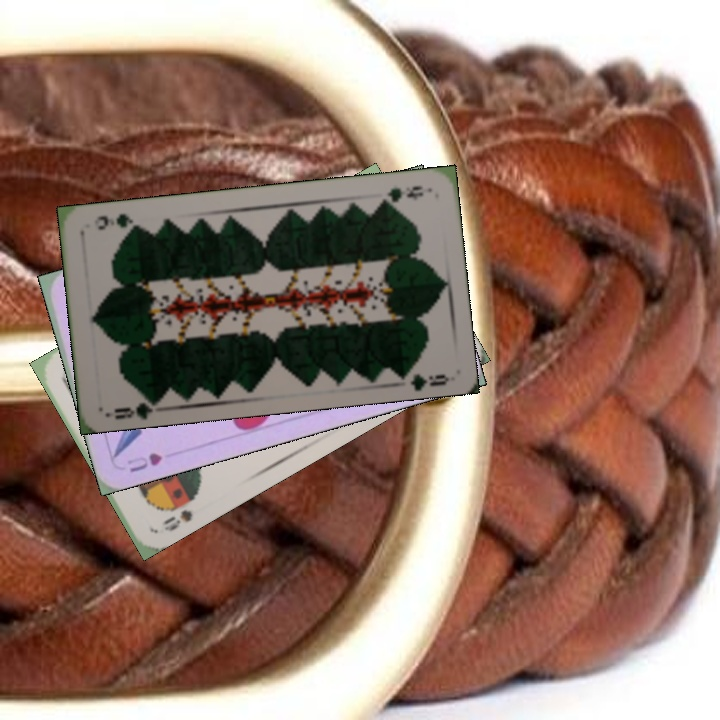G9: (109, 392, 162, 422), (375, 182, 429, 207)
HU: (123, 448, 165, 475)
SO: (159, 505, 195, 535)
